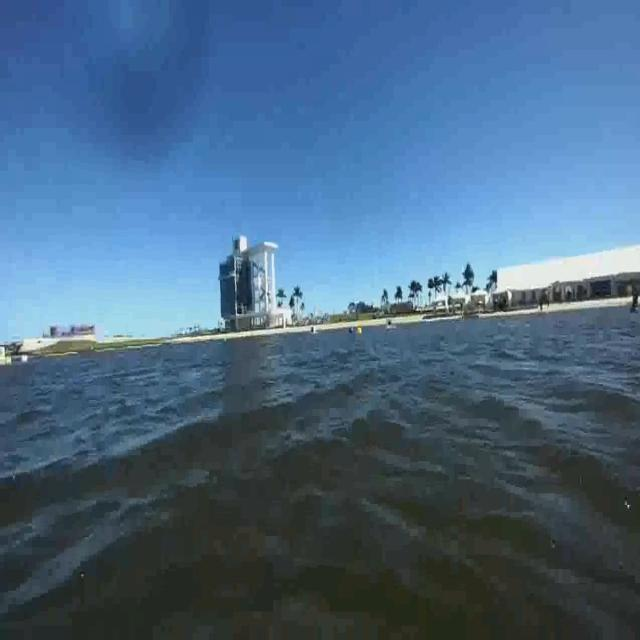green-column-buoy: (634, 290, 640, 316)
yellow-buoy: (357, 328, 363, 338)
